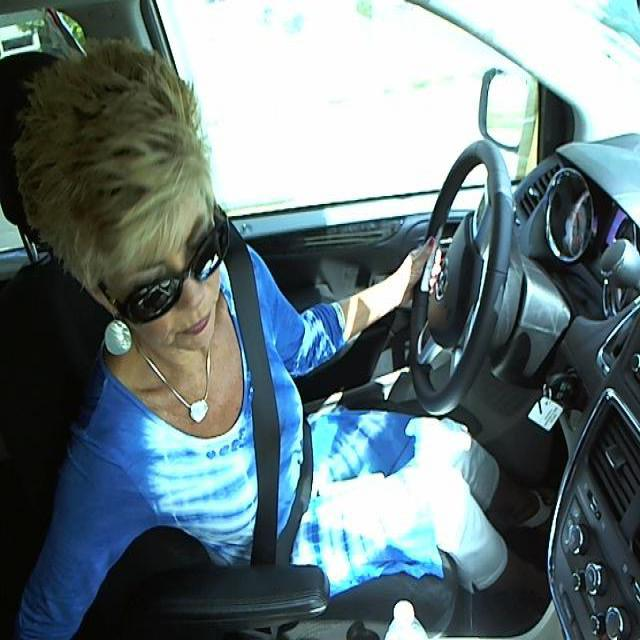seatbelt: (226, 260, 322, 555)
